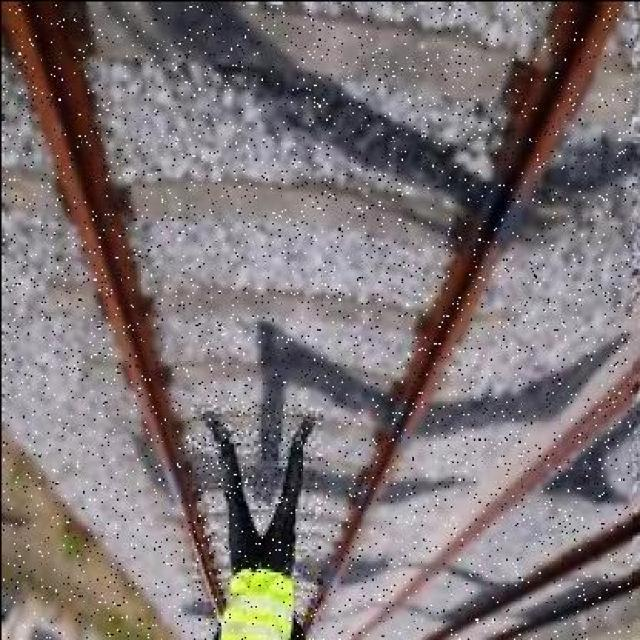danger: (191, 403, 320, 639)
rail: (2, 3, 630, 639)
